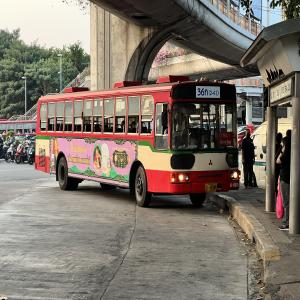BMTA-bus: (33, 80, 241, 208)
Bus Line Number: (196, 86, 222, 100)
Bus Side Number: (228, 180, 241, 189)
Destination Sign: (217, 130, 234, 147)
